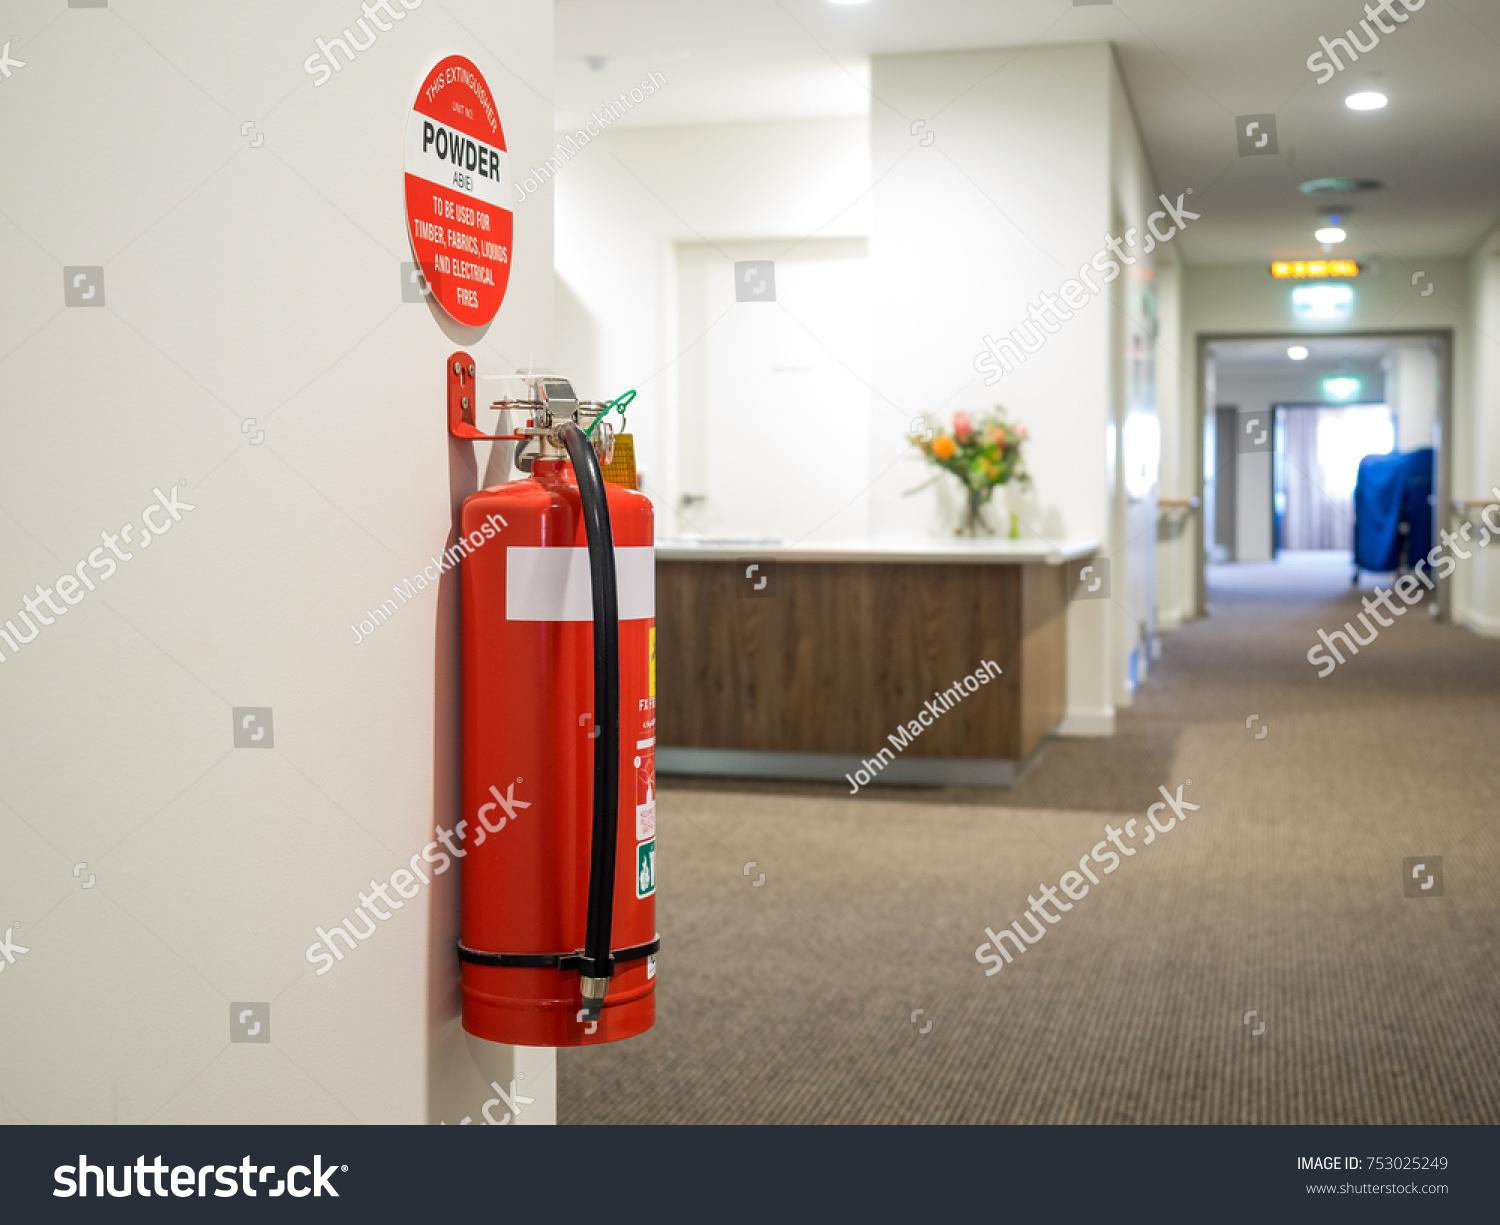wall-mounted: (402, 298, 700, 1080)
